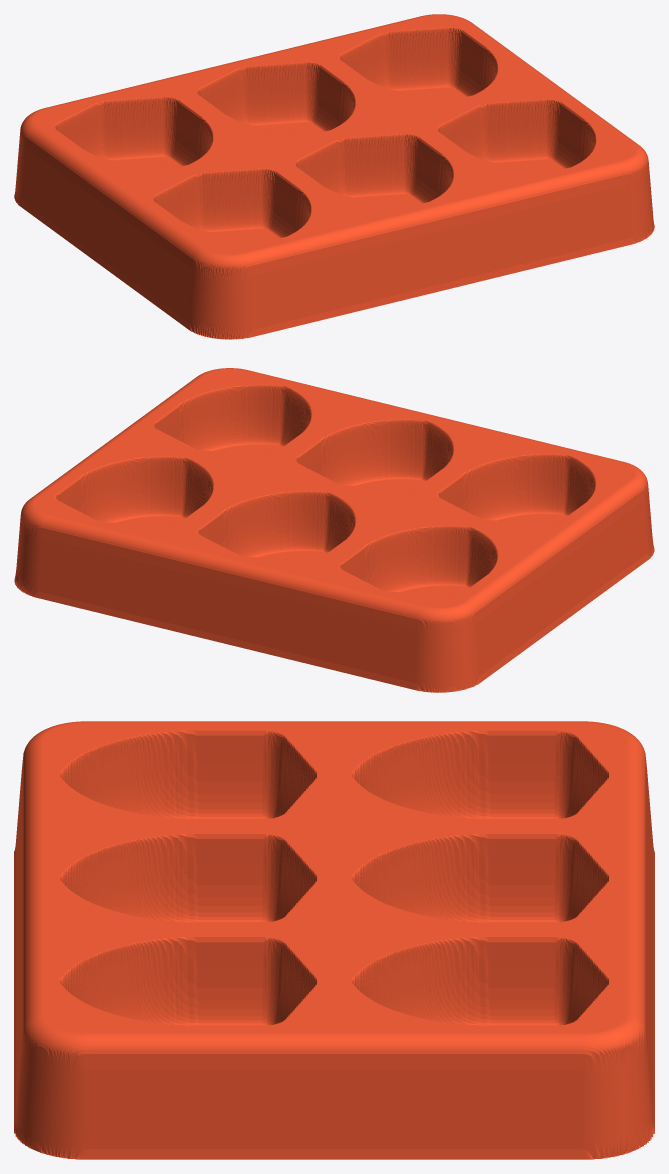
Rendered from mold.glb.
The picture shows the model from 3 angles, top to bottom: view 1: azimuth 30°, elevation 25°; view 2: azimuth 150°, elevation 25°; view 3: azimuth 270°, elevation 25°; orthographic projection. The views are drawn at different scales.
Visible parts, largest first — view 1: geometry_0; view 2: geometry_0; view 3: geometry_0.
Part boxes in pixels (box(x1,y1,x2,y2)): geometry_0: box(14, 14, 654, 339); geometry_0: box(14, 368, 654, 692); geometry_0: box(14, 721, 654, 1159).
Bounding box in the file's own units: 0.0996 × 0.0159 × 0.0808.
